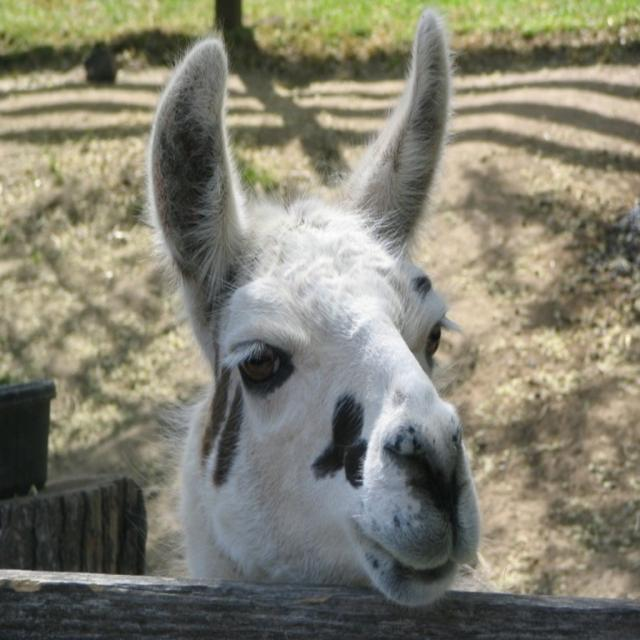alpaca: (141, 10, 481, 609)
